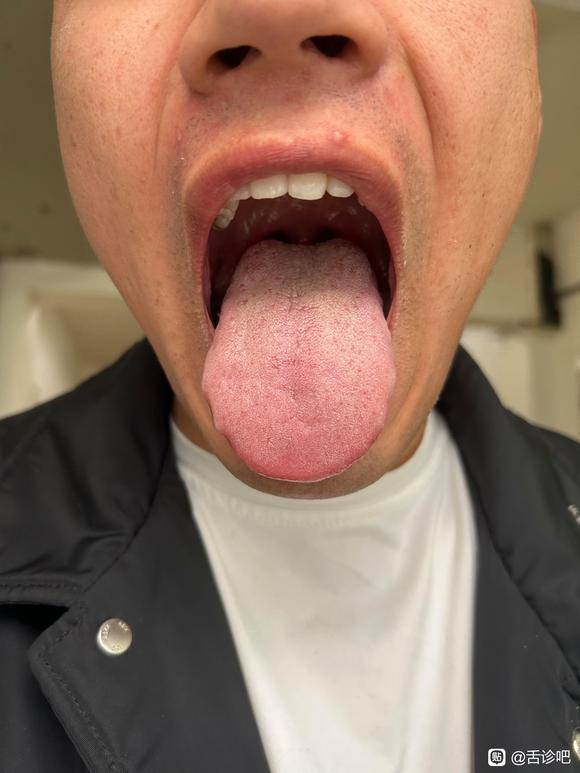baitaishe: (201, 239, 396, 483)
hongdianshe: (355, 366, 362, 374)
